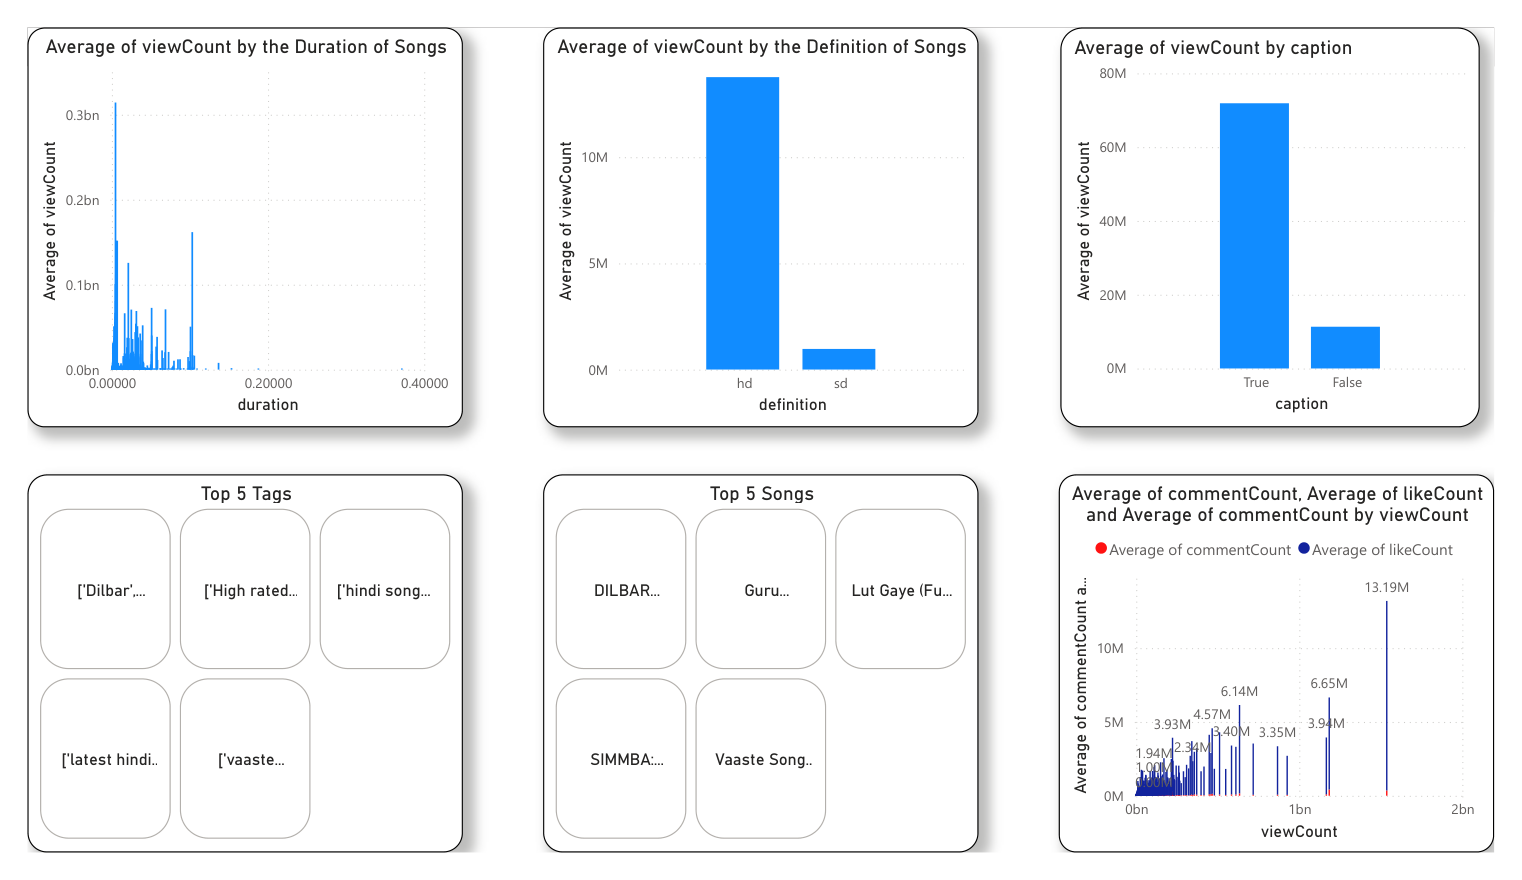

The dashboard page shown, as its layout file describes it:
{"tool":"powerbi","page":{"name":"UEI","canvas":[1280,720],"ordinal":3},"visuals":[{"type":"advancedSlicerVisual","title":"Top 5 Tags","fields":{"Values":["songs xlsx - Sheet1.tags"]},"box":[0,390,380,330],"z":0},{"type":"clusteredColumnChart","title":"Average of viewCount by the Duration of Songs","fields":{"Y":["Avg(songs xlsx - Sheet1.viewCount)"],"Category":["songs xlsx - Sheet1.duration"]},"box":[0,0,380,348.6],"z":1000},{"type":"advancedSlicerVisual","title":"Top 5 Songs","fields":{"Values":["songs xlsx - Sheet1.title"]},"box":[450,390,380,330],"z":2000},{"type":"lineStackedColumnComboChart","title":"Average of viewCount by the Definition of Songs","fields":{"Category":["songs xlsx - Sheet1.definition"],"Y":["Avg(songs xlsx - Sheet1.viewCount)"]},"box":[450.1,0,380.1,348.5],"z":3000},{"type":"lineStackedColumnComboChart","fields":{"Category":["songs xlsx - Sheet1.caption"],"Y":["Avg(songs xlsx - Sheet1.viewCount)"]},"box":[901.4,0,365.7,348.6],"z":4000},{"type":"columnChart","fields":{"Category":["songs xlsx - Sheet1.viewCount"],"Y":["Avg(songs xlsx - Sheet1.commentCount)","Avg(songs xlsx - Sheet1.likeCount)"]},"box":[900,390,380,330],"z":5000}]}

Visuals, with their boxes in screenshot pixels (x1, y1, x2, y2), scaled from the page's 1280x720 canvas onto the 1522x880 screenshot:
"Top 5 Tags" advancedSlicerVisual: <region>0, 477, 452, 879</region>
"Average of viewCount by the Duration of Songs" clusteredColumnChart: <region>0, 0, 452, 426</region>
"Top 5 Songs" advancedSlicerVisual: <region>535, 477, 987, 879</region>
"Average of viewCount by the Definition of Songs" lineStackedColumnComboChart: <region>535, 0, 987, 426</region>
lineStackedColumnComboChart - songs xlsx - Sheet1.caption x Avg(songs xlsx - Sheet1.viewCount): <region>1072, 0, 1507, 426</region>
columnChart - songs xlsx - Sheet1.viewCount x Avg(songs xlsx - Sheet1.commentCount): <region>1070, 477, 1521, 879</region>
